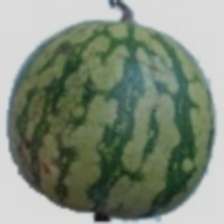watermelon: (26, 40, 186, 187)
